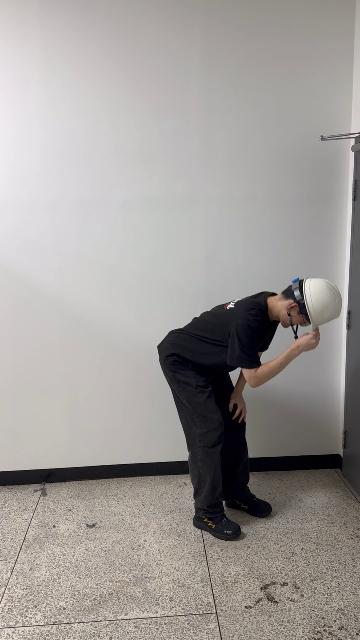helmet_worn: (301, 276, 344, 328)
shoe_worn: (194, 512, 242, 540), (225, 492, 272, 517)
vest_not_worn: (158, 292, 278, 397)
